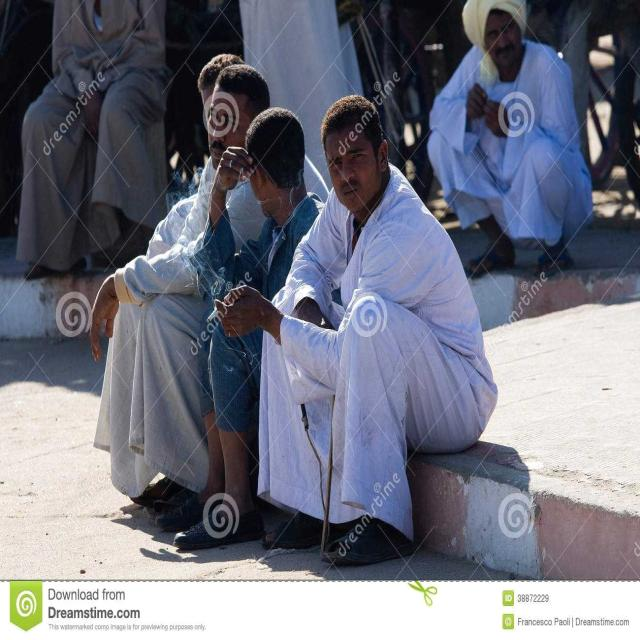Smooking: (200, 296, 223, 328)
